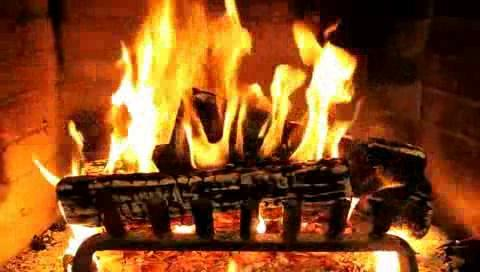fire: (107, 7, 362, 192)
